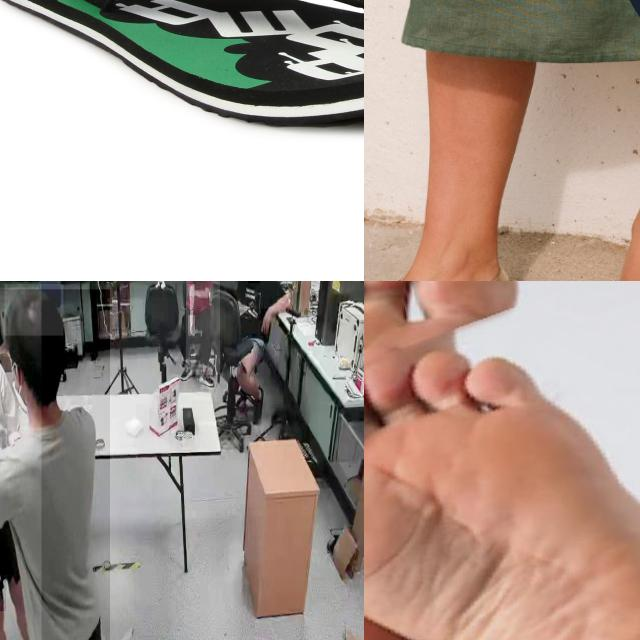Barefoots: (364, 281, 640, 640)
Sandals: (0, 0, 364, 129)
hand_noglove: (260, 309, 272, 336), (188, 315, 196, 337), (187, 284, 196, 297)
head_nohelmet: (4, 284, 64, 336)
person: (0, 289, 110, 640), (0, 282, 41, 640), (231, 281, 294, 428), (185, 281, 220, 375)
shoes: (247, 383, 266, 428), (199, 363, 215, 388), (180, 360, 193, 383)
